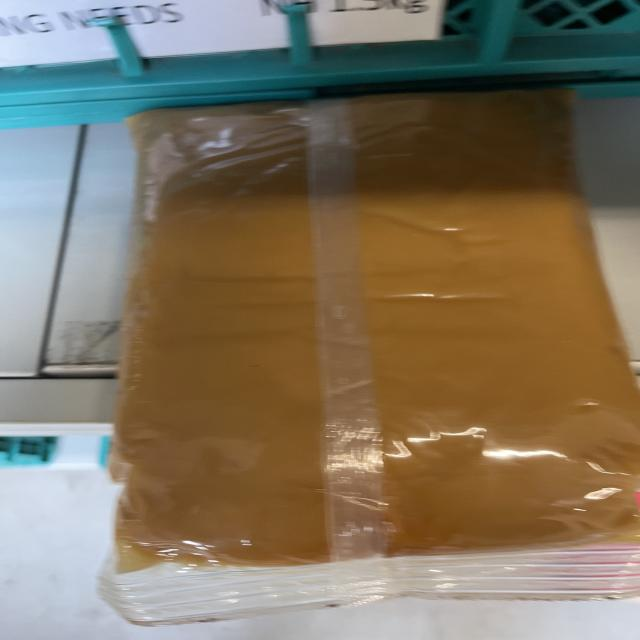object_name: (133, 107, 639, 587)
